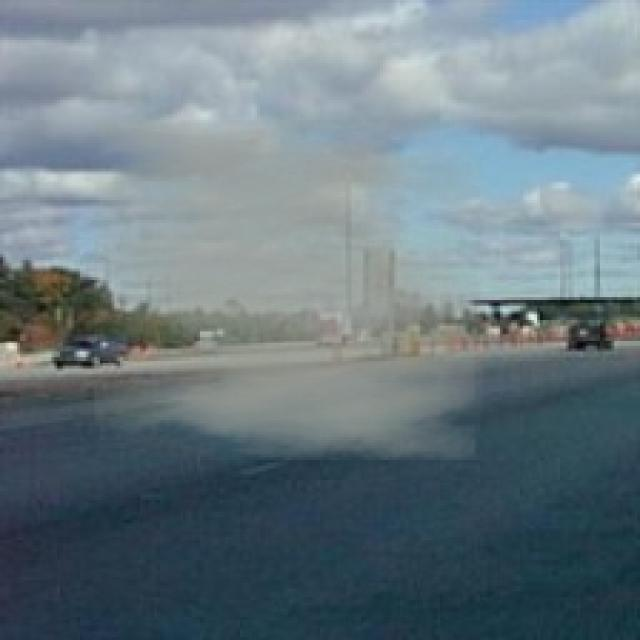Smoke: (94, 117, 483, 460)
